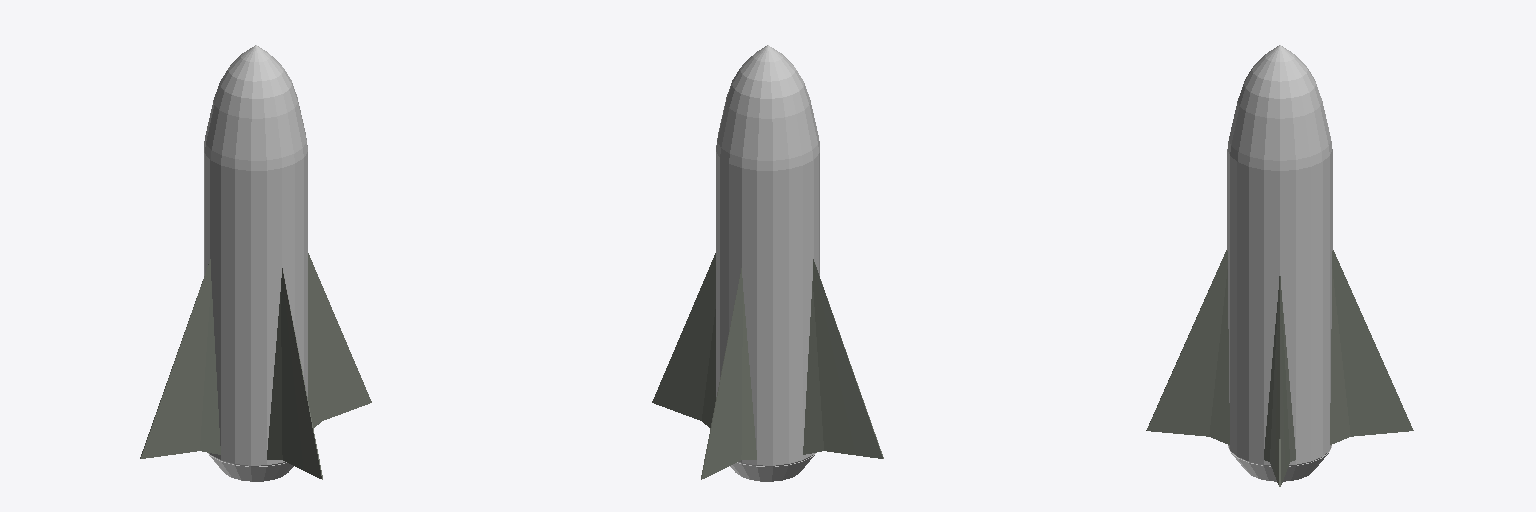
Rendered from medium_missile.obj.
The picture shows the model from 3 angles: view 1: azimuth 30°, elevation 25°; view 2: azimuth 150°, elevation 25°; view 3: azimuth 270°, elevation 25°; orthographic projection.
Visible parts, largest first — view 1: rocket; view 2: rocket; view 3: rocket.
Boxes of the visible parts, x1=… form: rocket: x1=140, y1=45, x2=371, y2=481; rocket: x1=652, y1=45, x2=883, y2=481; rocket: x1=1146, y1=45, x2=1413, y2=486.
Bounding box in the file's own units: 135 × 235 × 135.